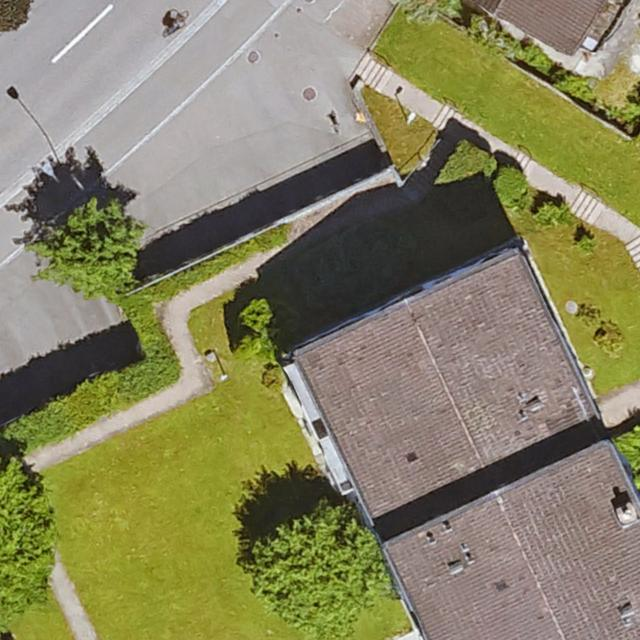tree: (252, 501, 389, 640), (29, 202, 148, 292), (0, 453, 51, 616), (230, 292, 296, 359)
